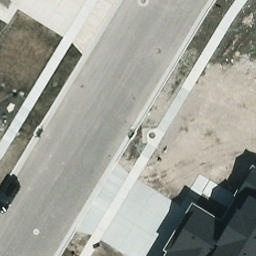car: (0, 178, 24, 223)
